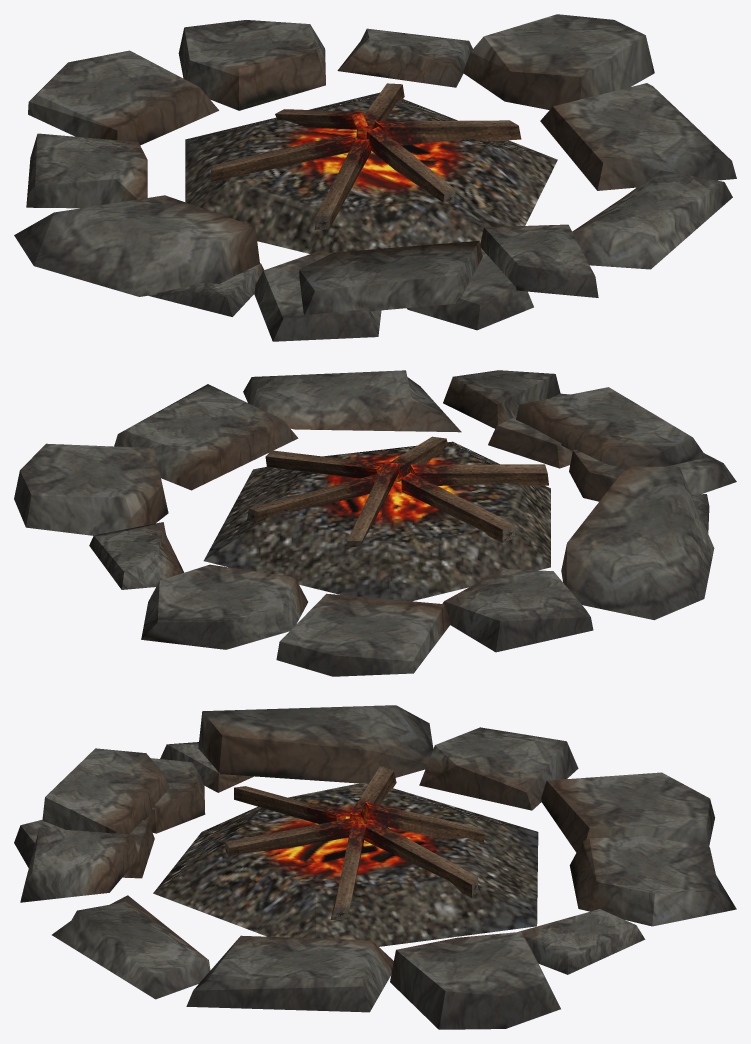
File: SC_yonghengsenlin_38.FBX
3 renders of one model, top to bottom at view 1: azimuth 30°, elevation 25°; view 2: azimuth 150°, elevation 25°; view 3: azimuth 270°, elevation 25°, orthographic. The views are drawn at different scales.
Visible parts, largest first — view 1: SC_yonghengsenlin_38; view 2: SC_yonghengsenlin_38; view 3: SC_yonghengsenlin_38.
Part boxes in pixels (x1,y1,x2,y2): SC_yonghengsenlin_38: [14, 14, 736, 341]; SC_yonghengsenlin_38: [14, 370, 736, 676]; SC_yonghengsenlin_38: [14, 705, 736, 1029].
Bounding box in the file's own units: 276 × 27.65 × 267.
